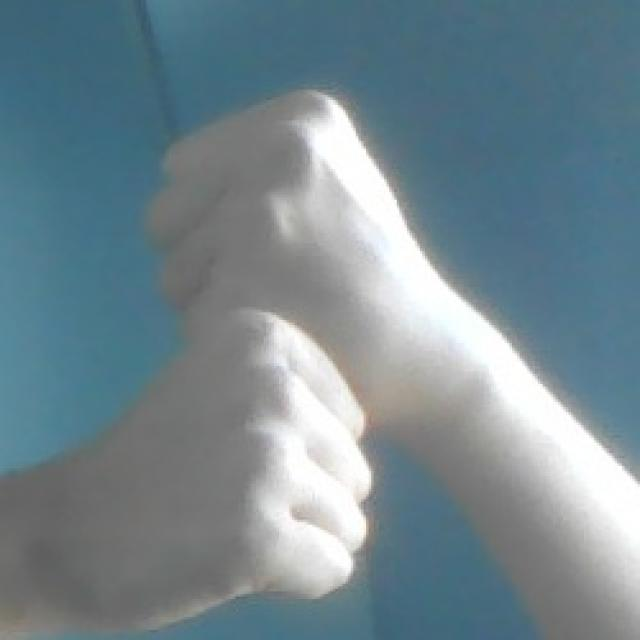Alphabet-g: (41, 79, 422, 626)
